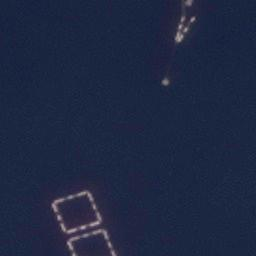square_solid: (50, 189, 106, 235), (64, 227, 115, 256)
